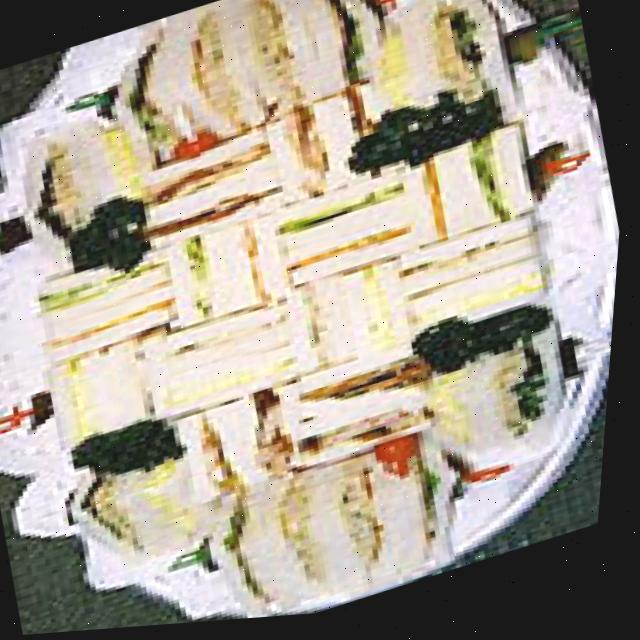三明治: (0, 0, 590, 598)
